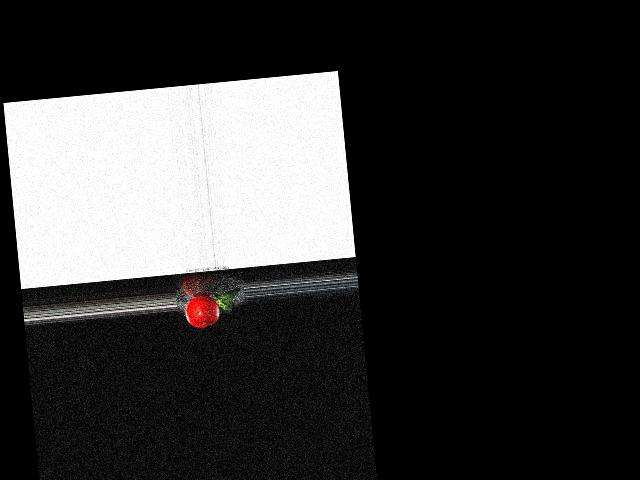tomato: (184, 294, 221, 329)
